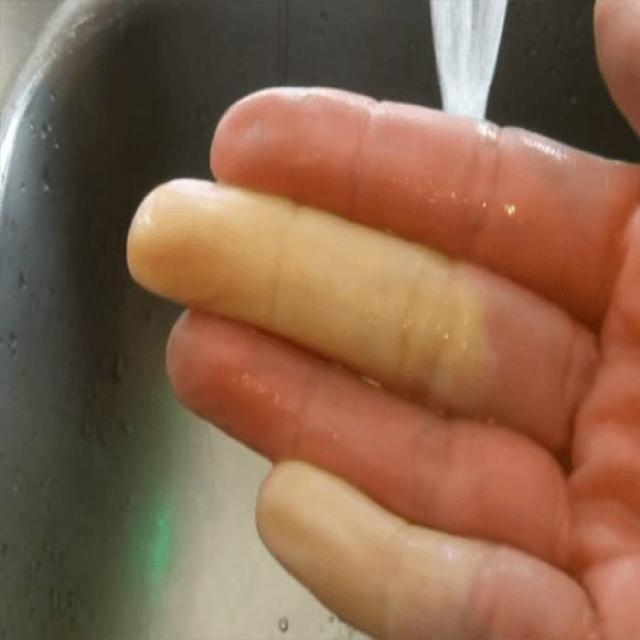raynauds: (119, 156, 490, 628)
